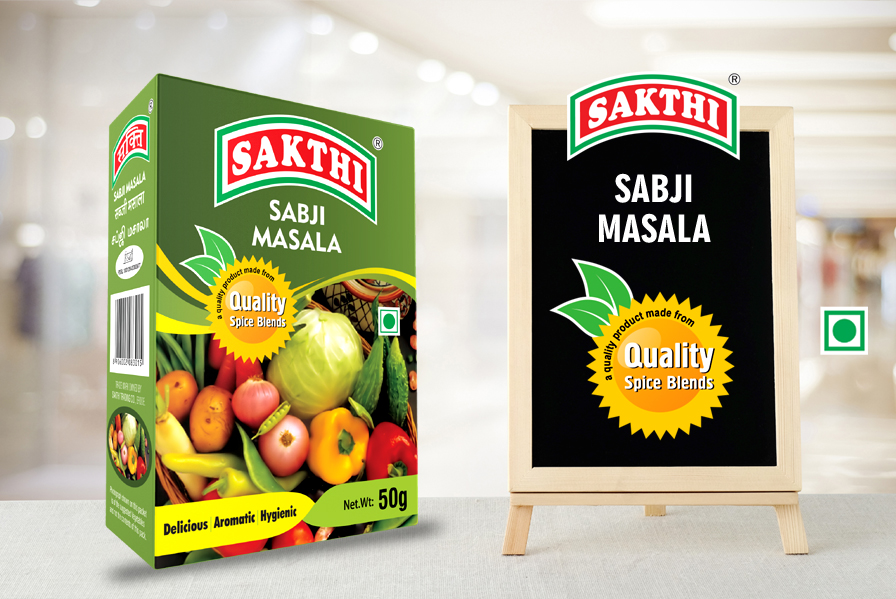VEG: (818, 305, 870, 359), (378, 307, 400, 336)
